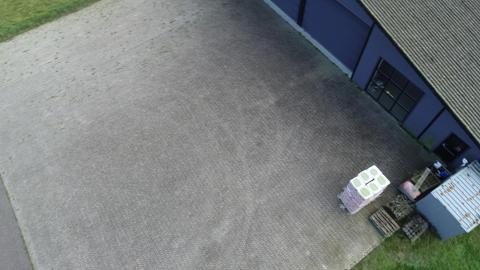RockwoolPallet: (338, 165, 391, 215)
